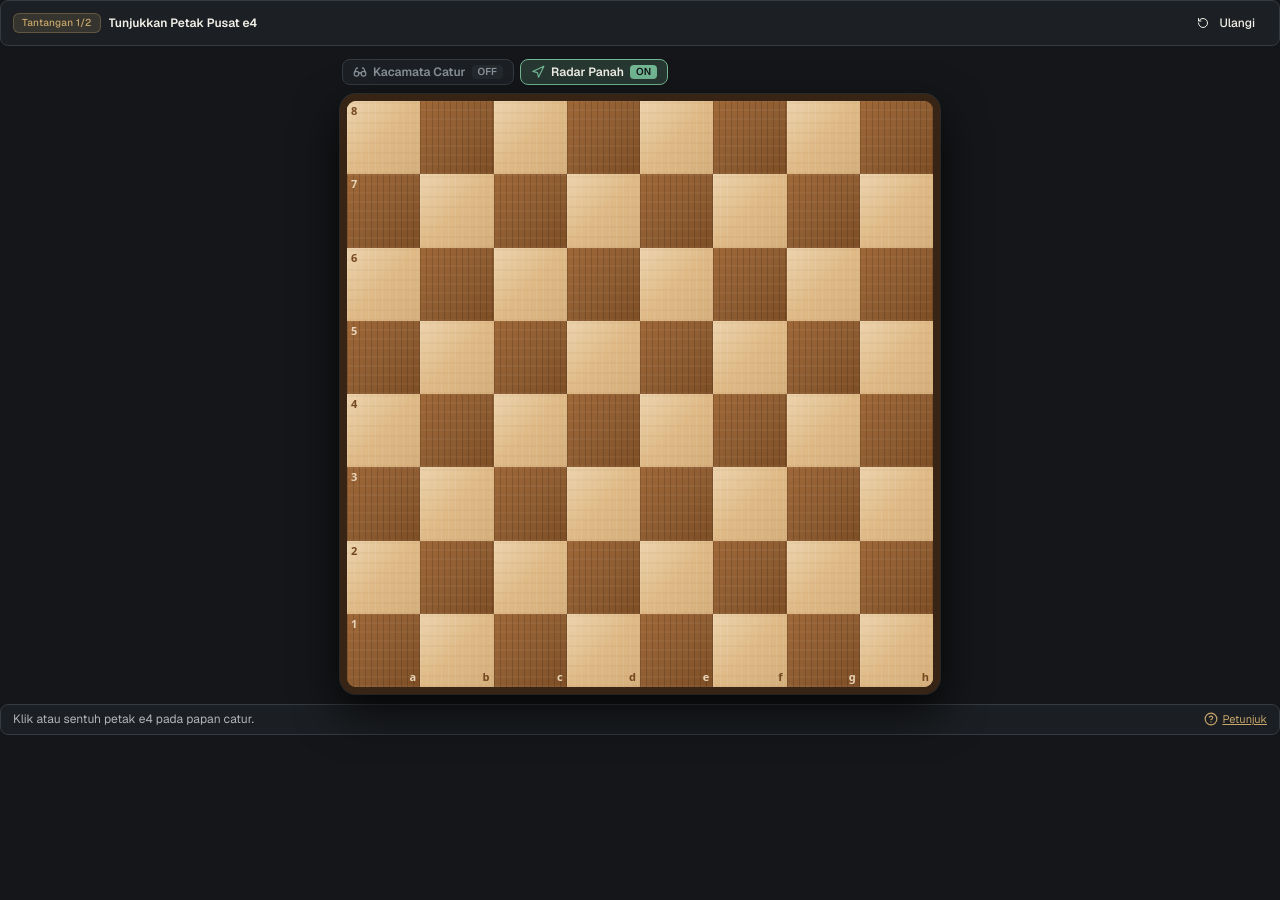
InteractiveLessonBoard - Pop-up Step Completion Modal › opens celebratory pop-up modal when clicking correct target square without scrolling
Note: Click on target square e4
Click the button named "Petak e4": (677, 431) [640,394,713,467]
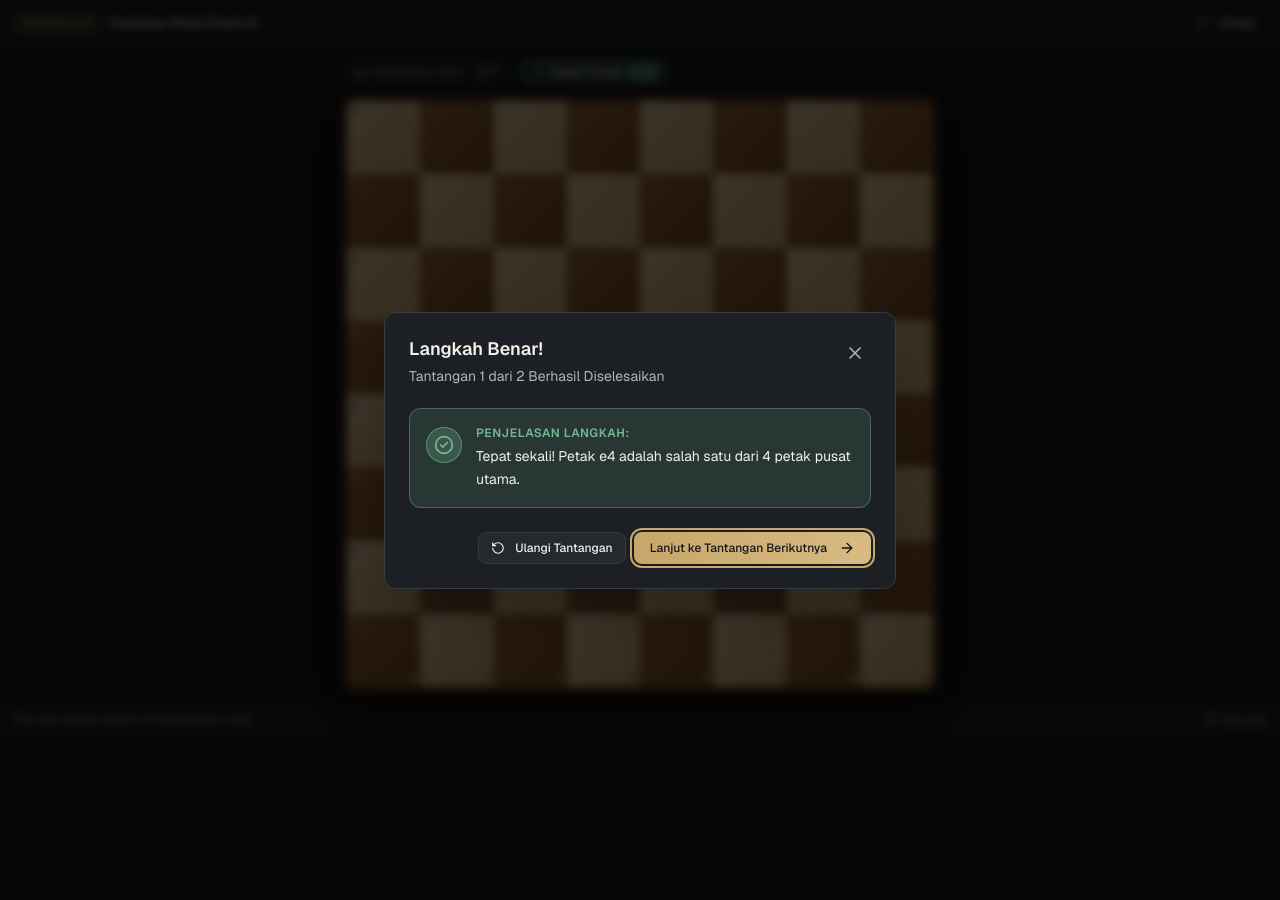
Expected: the dialog is shown
Expected: the heading "Langkah Benar!" is shown, [409,336,543,360]
Expected: the text "Tepat sekali! Petak e4 adalah salah satu dari 4 petak pusat utama." is shown, [476,445,854,490]
